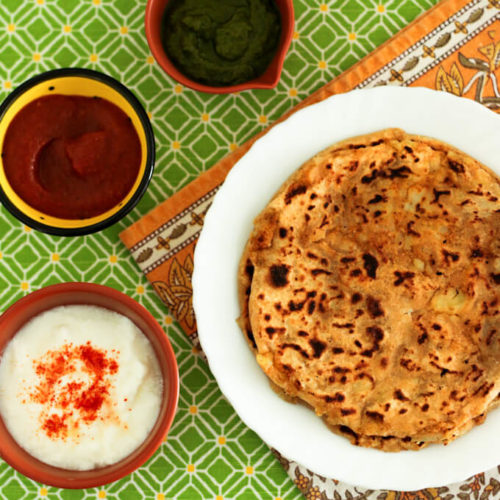aloo_paratha: (240, 128, 500, 454)
